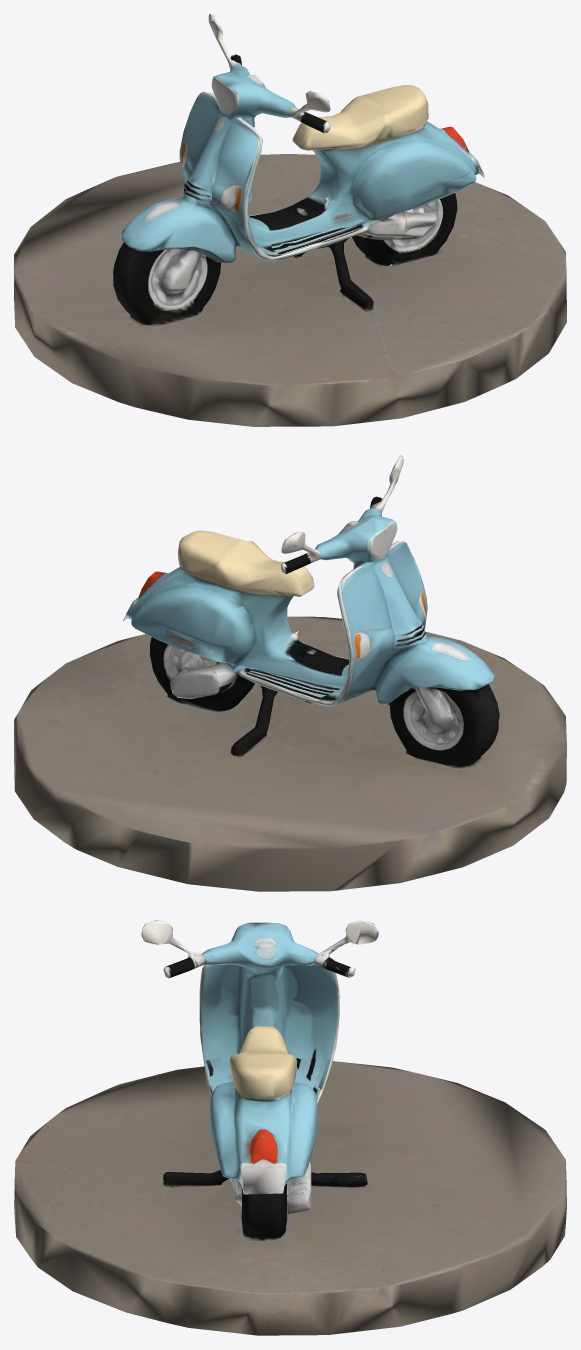
Rendered from token-scooter.glb.
The picture shows the model from 3 angles, top to bottom: view 1: azimuth 30°, elevation 25°; view 2: azimuth 150°, elevation 25°; view 3: azimuth 270°, elevation 25°; orthographic projection.
Size of the model in its own units: 1.9 by 1.05 by 1.9.
Materials: 1 (1 with a texture image).
